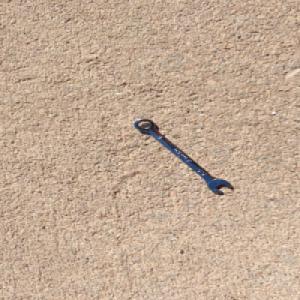Wrench: (130, 116, 234, 195)
